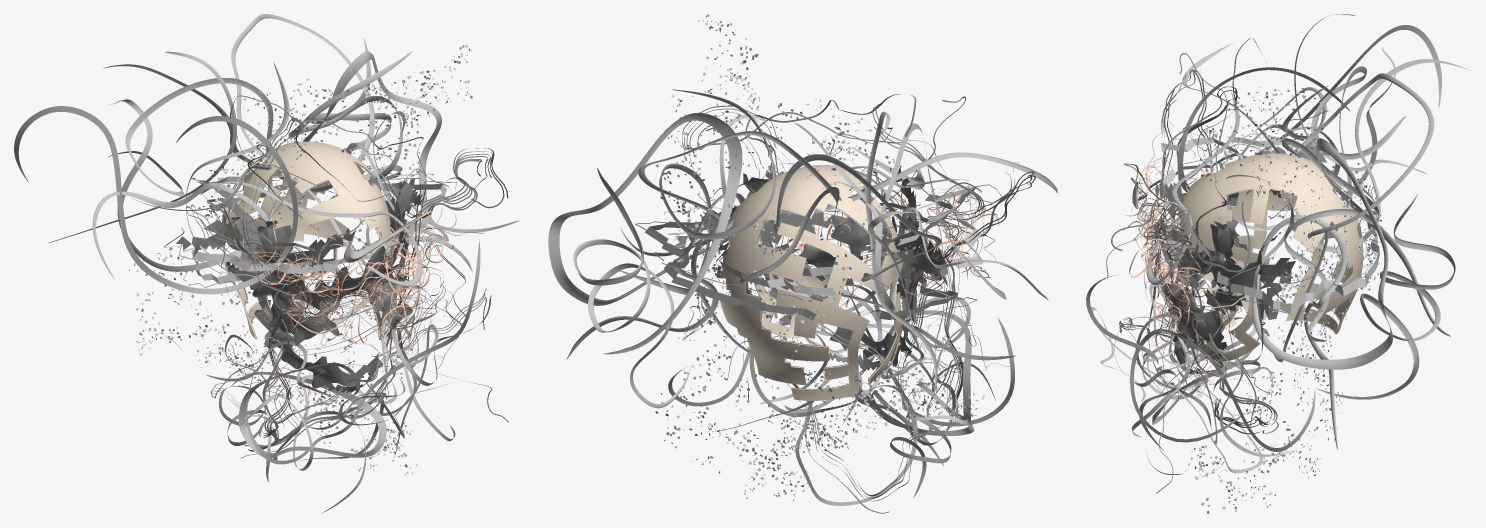
3 renders of one model, left to right at view 1: azimuth 30°, elevation 25°; view 2: azimuth 150°, elevation 25°; view 3: azimuth 270°, elevation 25°, orthographic. The views are drawn at different scales.
Visible parts, largest first — view 1: T2_AKe1, T2_AKe2, T2_AS, T2_ADian, T2_AHuanPian, BigChangXianpolySurface16, BigChangXianpolySurface4, BigS1pPlane38, BigS1pPlane32, BigS1pPlane31, BigChangXianpolySurface14, BigSpPlane37 (+18 smaller); view 2: T2_AKe1, T2_ADian, T2_AHuanPian, BigS1pPlane37, BigChangXianpolySurface16, T2_AKe2, BigS1pPlane35, BigS1pPlane32, BigSpPlane37, BigChangXianpolySurface14, BigS1pPlane31, T2_AS (+16 smaller); view 3: T2_AKe1, BigS1pPlane37, T2_ADian, T2_AHuanPian, BigS1pPlane32, T2_AS, BigChangXianpolySurface16, BigChangXianpolySurface14, BigS1pPlane35, BigChangXianpolySurface4, T2_AKe2, BigS1pPlane38 (+20 smaller).
Part boxes in pixels (box(x1,y1,x2,y2)): T2_AKe1: box(221, 141, 392, 365); T2_AKe2: box(252, 246, 412, 388); T2_AS: box(235, 210, 456, 410); T2_ADian: box(128, 45, 472, 475); T2_AHuanPian: box(164, 136, 484, 287); BigChangXianpolySurface16: box(225, 95, 453, 458); BigChangXianpolySurface4: box(152, 202, 508, 423); BigS1pPlane38: box(14, 106, 298, 294); BigS1pPlane32: box(103, 14, 422, 286); BigS1pPlane31: box(108, 78, 273, 271); BigChangXianpolySurface14: box(186, 144, 508, 316); BigSpPlane37: box(206, 341, 386, 457); T2_AKe1: box(720, 165, 906, 400); T2_ADian: box(655, 14, 984, 501); T2_AHuanPian: box(635, 162, 1018, 320); BigS1pPlane37: box(548, 112, 744, 359); BigChangXianpolySurface16: box(743, 94, 1014, 513); T2_AKe2: box(798, 185, 928, 377); BigS1pPlane35: box(573, 168, 690, 408); BigS1pPlane32: box(638, 131, 968, 282); BigSpPlane37: box(855, 310, 1015, 435); BigChangXianpolySurface14: box(682, 96, 1035, 322); BigS1pPlane31: box(775, 154, 941, 351); T2_AS: box(758, 159, 999, 398); T2_AKe1: box(1170, 153, 1363, 361); BigS1pPlane37: box(1252, 138, 1450, 449); T2_ADian: box(1185, 86, 1382, 513); T2_AHuanPian: box(1138, 71, 1379, 342); BigS1pPlane32: box(1146, 59, 1470, 284); T2_AS: box(1123, 149, 1213, 397); BigChangXianpolySurface16: box(1111, 38, 1278, 434); BigChangXianpolySurface14: box(1124, 53, 1250, 297); BigS1pPlane35: box(1317, 194, 1455, 399); BigChangXianpolySurface4: box(1106, 127, 1272, 493); T2_AKe2: box(1154, 197, 1239, 367); BigS1pPlane38: box(1177, 25, 1441, 192).
Size of the model in its own units: 0.4254 by 0.4147 by 0.347.
